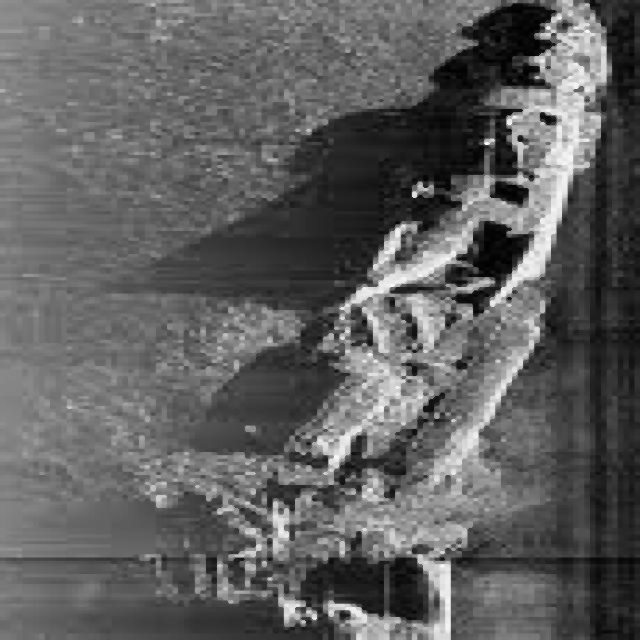Ship: (217, 0, 623, 640)
